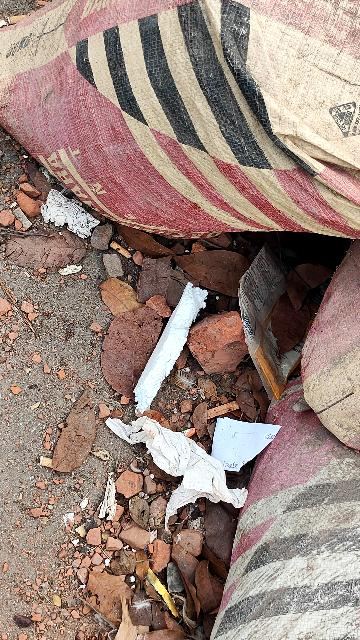cocksheet: (123, 279, 213, 415)
